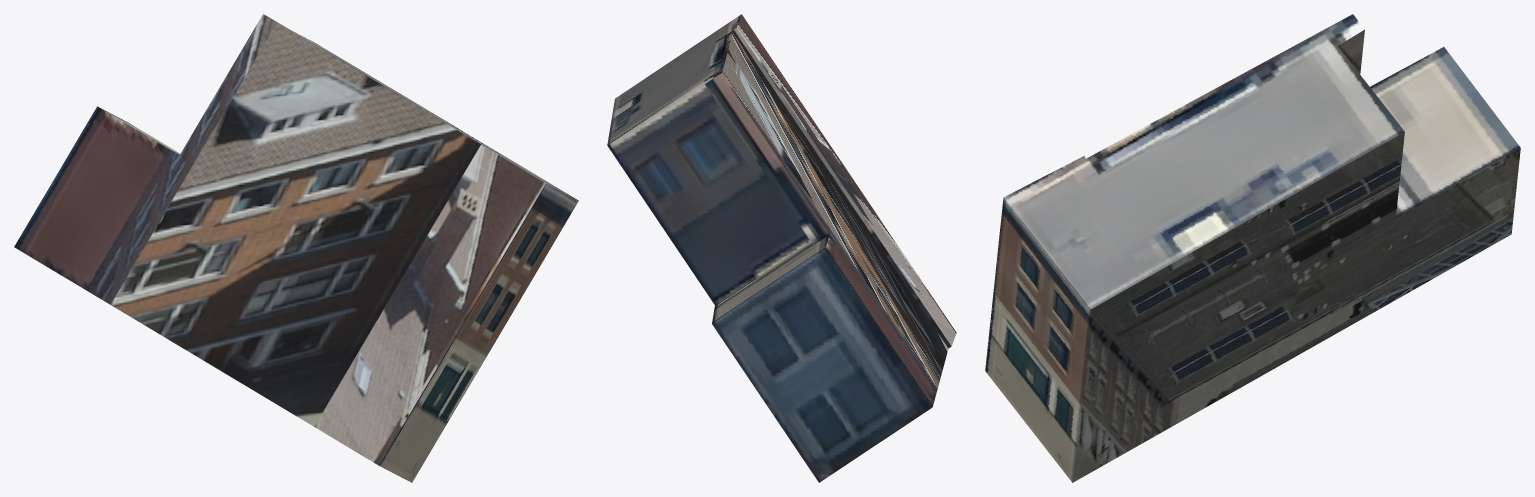
3 views of the same model, side by side, from view 1: azimuth 30°, elevation 25°; view 2: azimuth 150°, elevation 25°; view 3: azimuth 270°, elevation 25° (orthographic). The views are drawn at different scales.
Visible parts, largest first — view 1: BAG_0599100000760339 (×3); view 2: BAG_0599100000760339 (×3); view 3: BAG_0599100000760339 (×4).
Part boxes in pixels (left/top/right/bottom): BAG_0599100000760339 (×3): left=14, top=14, right=578, bottom=482; BAG_0599100000760339 (×3): left=607, top=14, right=956, bottom=482; BAG_0599100000760339 (×4): left=985, top=14, right=1520, bottom=482.
Bounding box in the file's own units: 20.81 × 18.48 × 19.83.
Materials: 1 (1 with a texture image).
